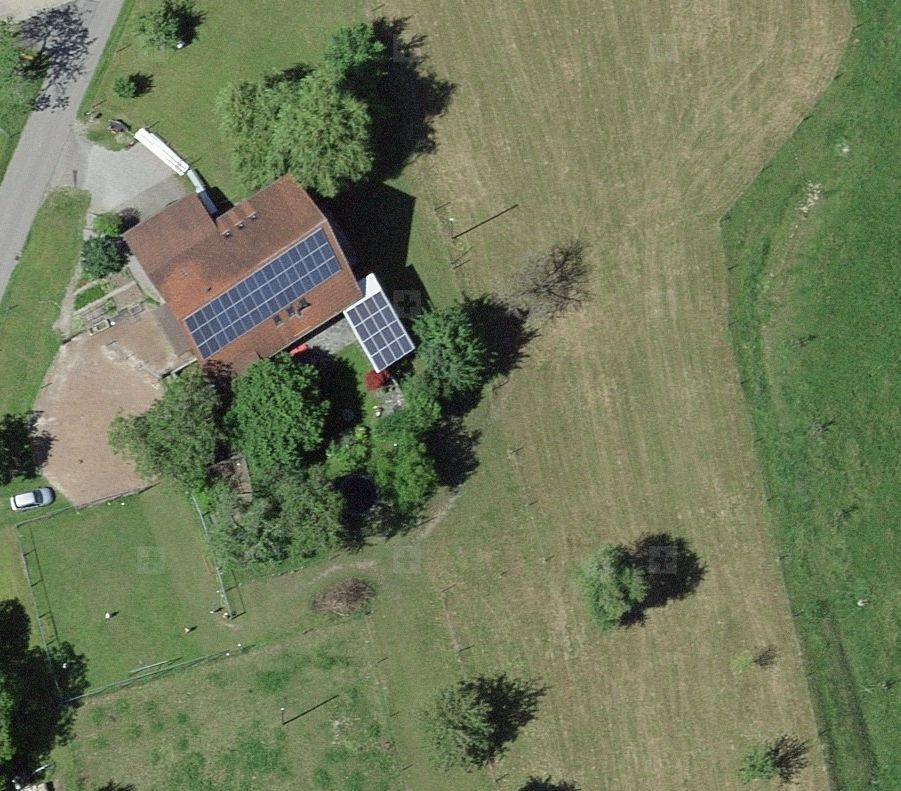solar: (179, 226, 342, 364), (343, 291, 416, 373)
